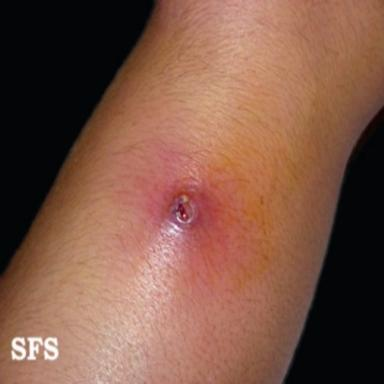Impetigo: (161, 181, 212, 243)
